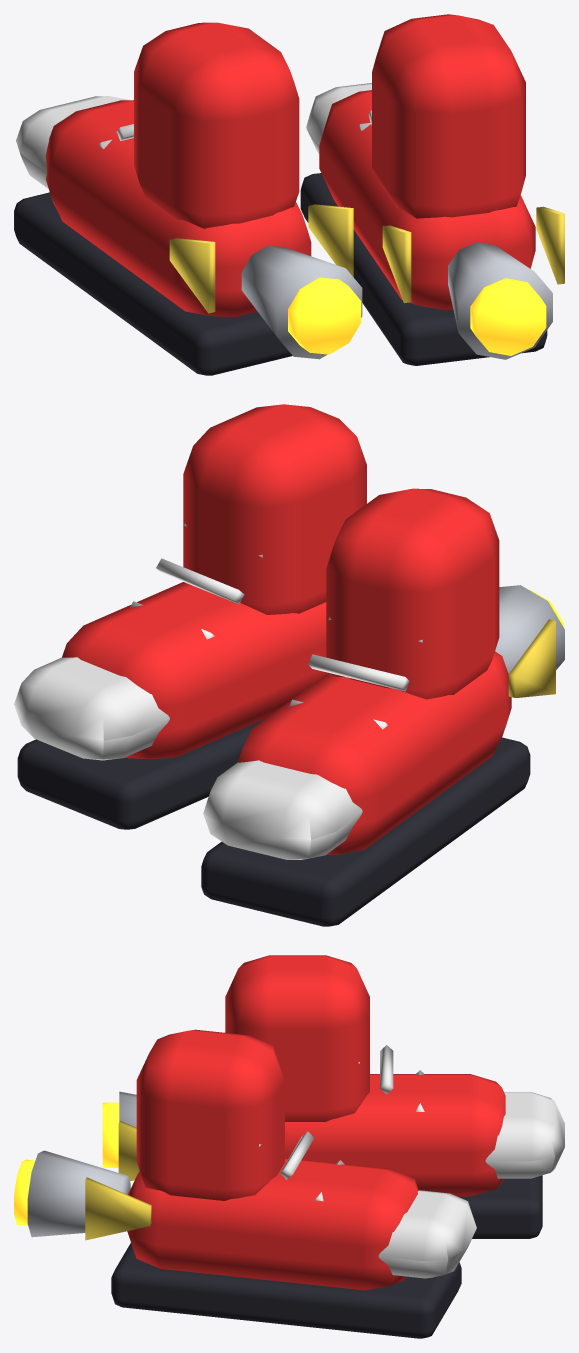
File: x_moon_rocket.glb
3 views of the same model, one above another, from view 1: azimuth 30°, elevation 25°; view 2: azimuth 150°, elevation 25°; view 3: azimuth 270°, elevation 25° (orthographic). The views are drawn at different scales.
Visible parts, largest first — view 1: boot_l.002, boot_r.001; view 2: boot_l.002, boot_r.001; view 3: boot_r.001, boot_l.002.
Boxes of the visible parts, box(x1,y1,x2,y2) form: boot_l.002: box(14, 22, 362, 375); boot_r.001: box(300, 14, 564, 365); boot_l.002: box(201, 488, 564, 926); boot_r.001: box(14, 404, 366, 829); boot_r.001: box(14, 1029, 476, 1338); boot_l.002: box(102, 955, 564, 1238).
Bounding box in the file's own units: 0.3366 × 0.25 × 0.4946.
